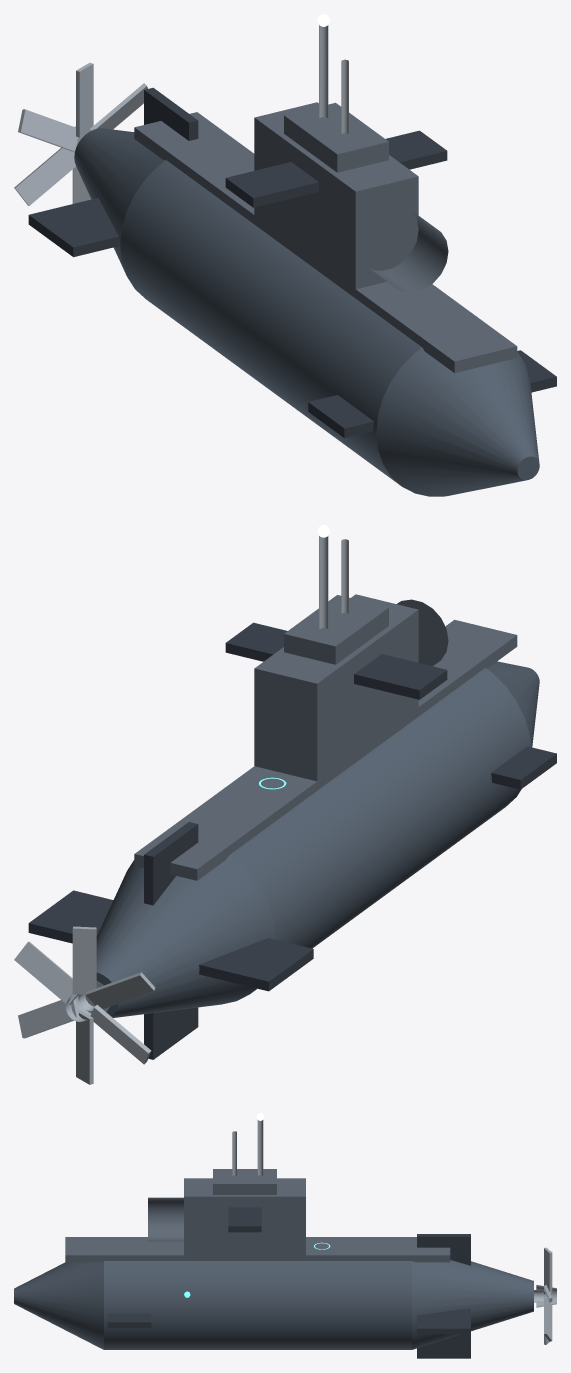
File: submarine.glb
The picture shows the model from 3 angles, top to bottom: view 1: azimuth 30°, elevation 25°; view 2: azimuth 150°, elevation 25°; view 3: azimuth 270°, elevation 25°; orthographic projection. The views are drawn at different scales.
Visible parts, largest first — view 1: model; view 2: model; view 3: model.
Boxes of the visible parts, x1,y1,x2,y2 form: model: (14, 14, 556, 496); model: (14, 525, 556, 1084); model: (14, 1113, 556, 1358).
Size of the model in its own units: 1.3 by 2.1 by 4.23.
